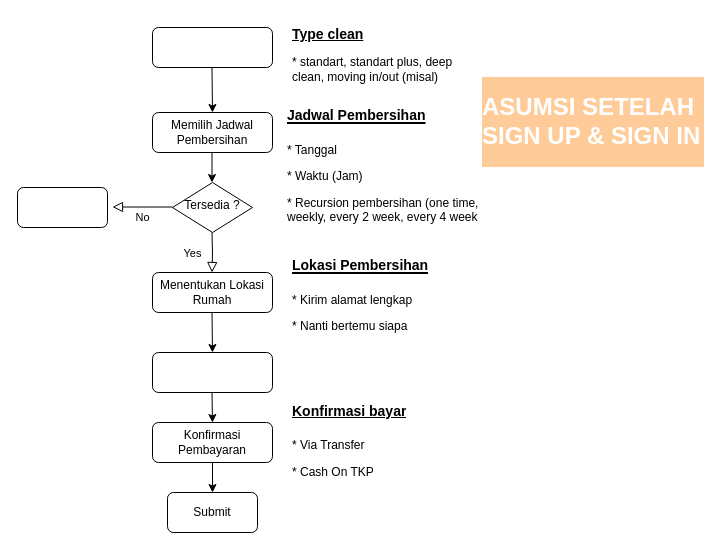
Some shapes in this 725 by 550 pixel diagram are drawn without their labels. The centre of each missing label's shape, as x and y in pixels:
Catatan Tambahan (Opsional): the point at 212,372
Memilih Clean Type: the point at 212,47
Sold Out: the point at 62,207
